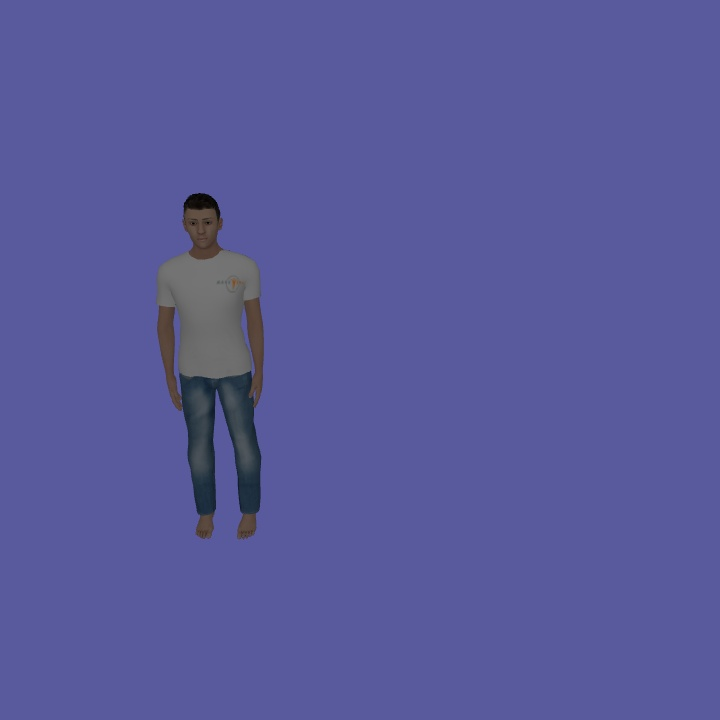victim: (150, 186, 269, 538)
